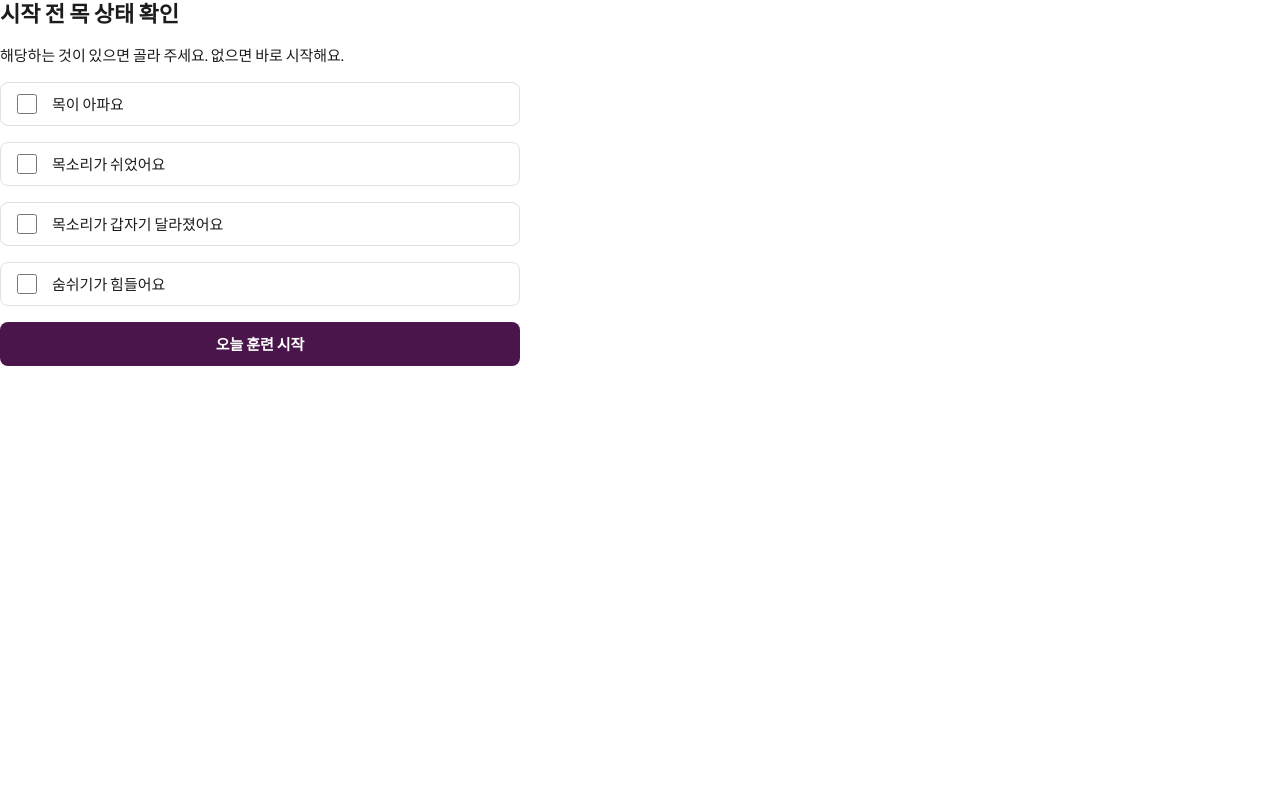
Test: 화면 › 시작 전 확인: 증상 선택 → 휴식 카드
The width and height of the screenshot is (1280, 800).
Click the checkbox labelled "목이 아파요": x=27, y=104 [17,94,37,114]
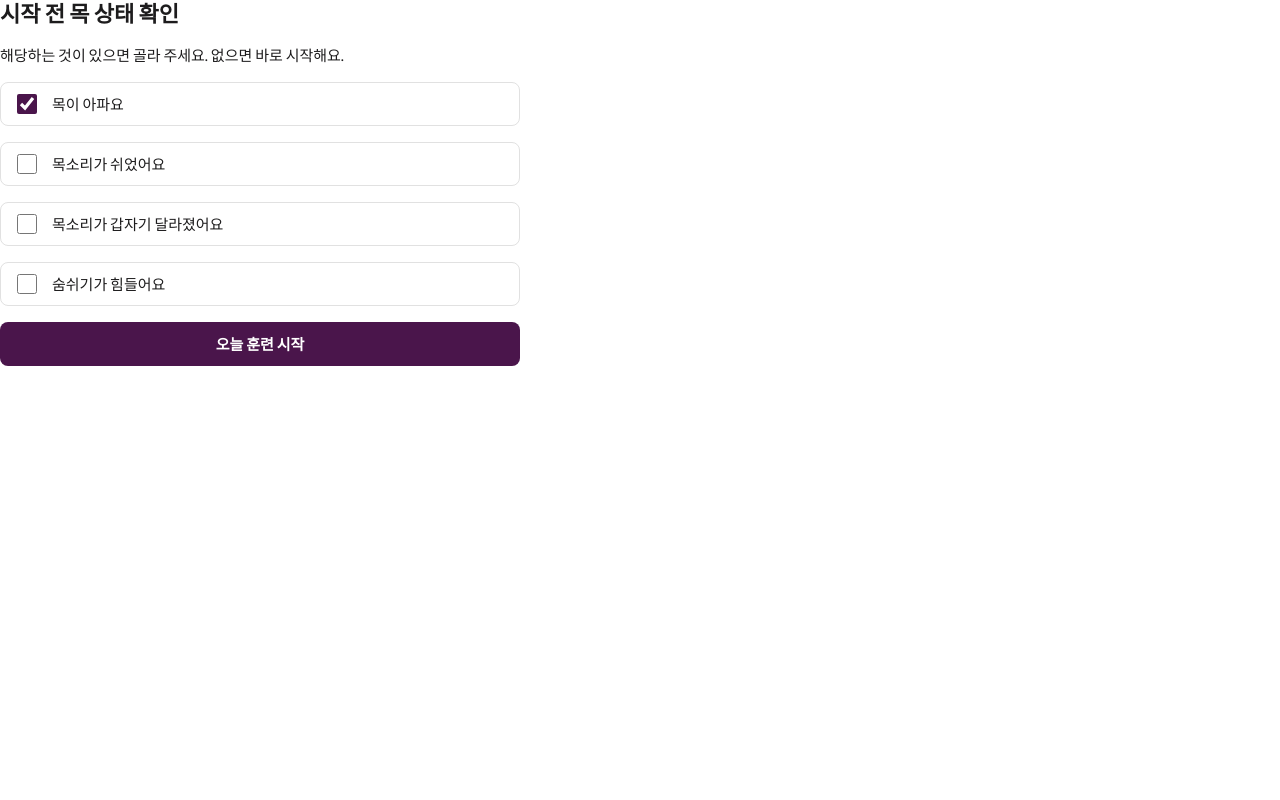
Click the button "오늘 훈련 시작": x=260, y=344 [0,322,520,366]
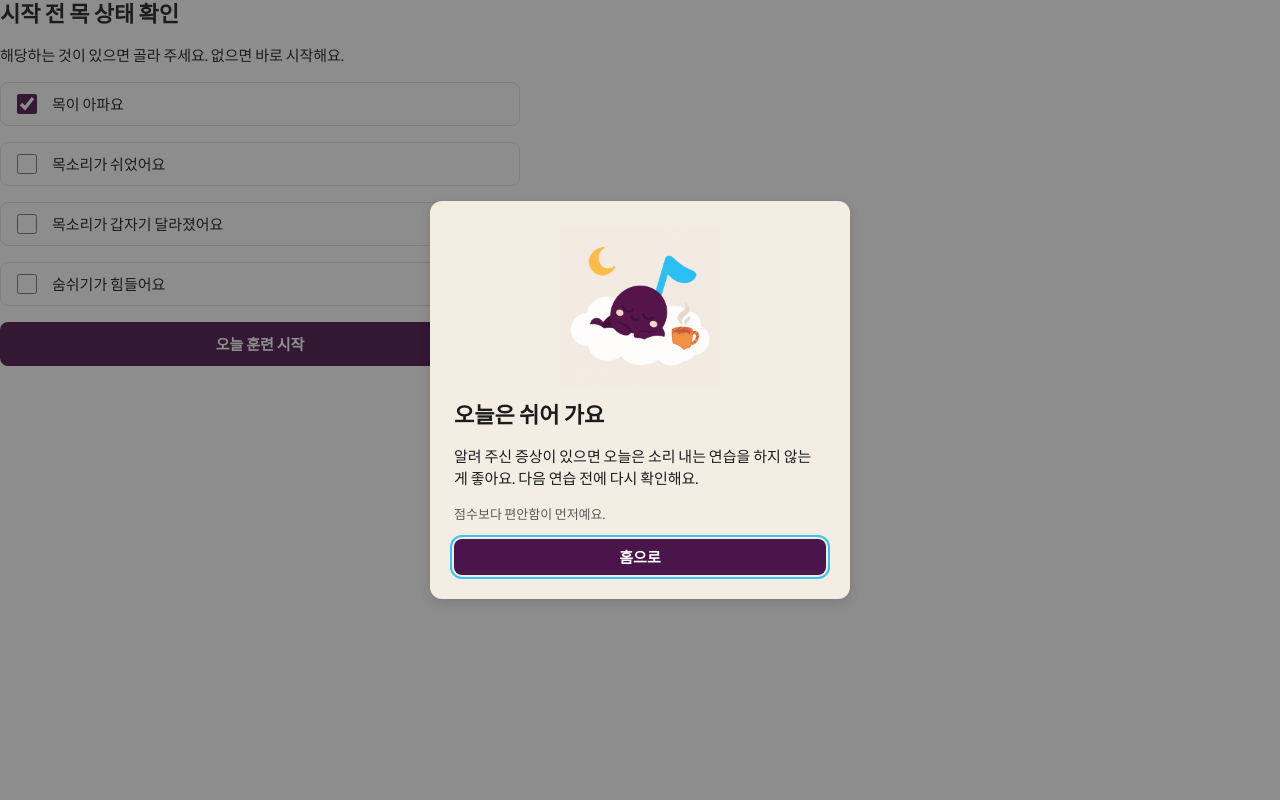
Check: the heading "오늘은 쉬어 가요" is shown, box [454,401,604,428]
